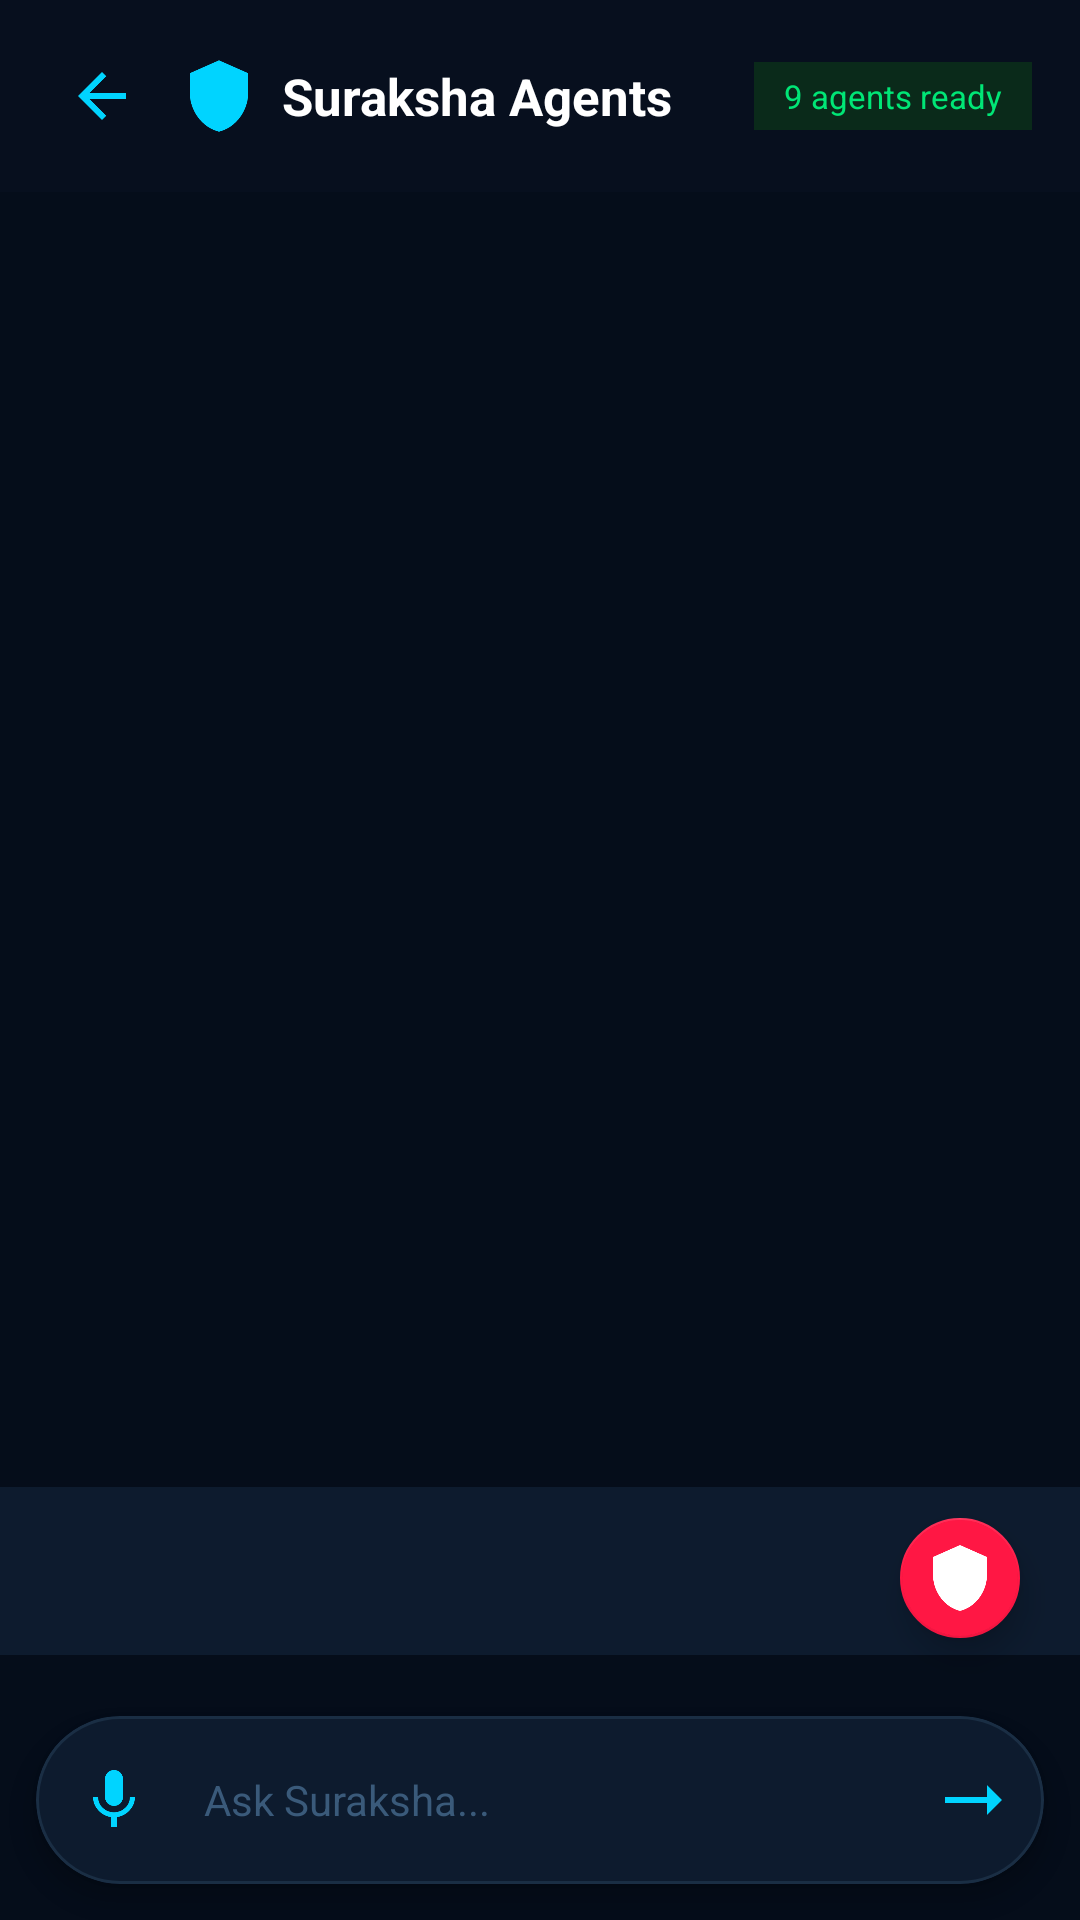

Locate icon controls on the screen. Image size 1080px x 1920px, boxes as (x1, y1, x2, y2).
Back: (78, 72, 126, 120)
Send: (945, 1785, 1002, 1815)
SOS: (900, 1518, 1020, 1638)
Voice input: (93, 1770, 135, 1827)
